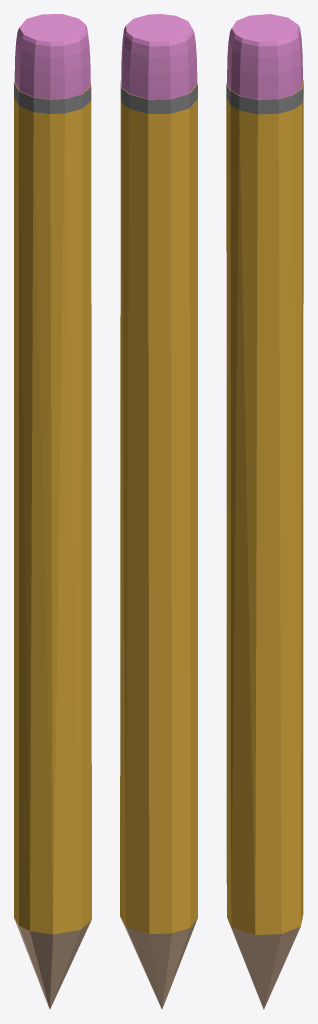
File: pencil.glb
3 views of the same model, side by side, from view 1: azimuth 30°, elevation 25°; view 2: azimuth 210°, elevation 25°; view 3: azimuth 330°, elevation 25° (orthographic).
Visible parts, largest first — view 1: Pencil; view 2: Pencil; view 3: Pencil.
Boxes of the visible parts, left/top/right/bottom form: Pencil: left=14, top=14, right=91, bottom=1009; Pencil: left=120, top=14, right=197, bottom=1009; Pencil: left=226, top=14, right=303, bottom=1009.
Size of the model in its own units: 0.0111 by 0.1536 by 0.0108.
